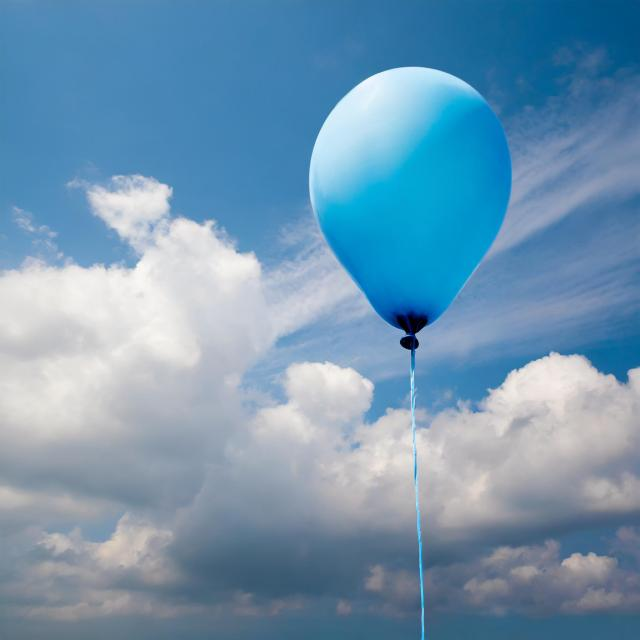blue: (312, 68, 514, 345)
